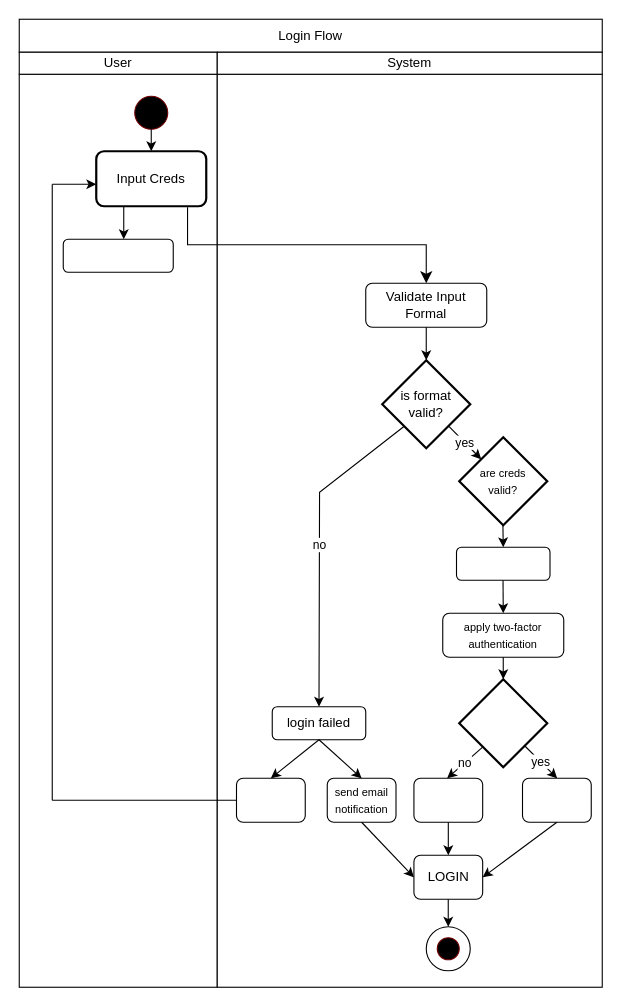
This 622x1007 diagram has some shape labels left out. Here are the shapes that lost their labels. From the top down, the centre of each, then its label:
At point (117, 255): "Receive Feedback".
At point (502, 563): "generated token".
At point (503, 723): "is 2FA Valid?".
At point (270, 799): "record failed loading attempt".
At point (448, 799): "send 2FA failure notification".
At point (556, 799): "store session data".
